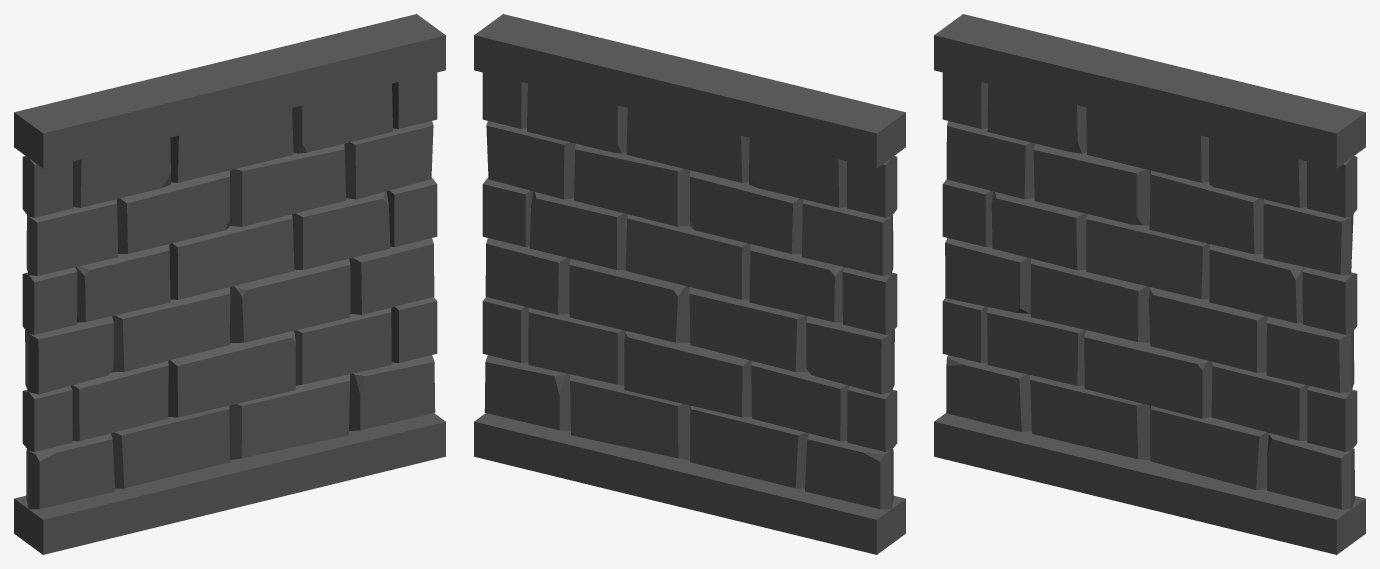
The model's file is Wall_4x4_4.fbx.
The picture shows the model from 3 angles, left to right: view 1: azimuth 30°, elevation 25°; view 2: azimuth 150°, elevation 25°; view 3: azimuth 330°, elevation 25°; orthographic projection.
Parts seen in each view (by area): view 1: Wall 1.004; view 2: Wall 1.004; view 3: Wall 1.004.
Part boxes in pixels (x1,y1,x2,y2): Wall 1.004: (14, 14, 445, 554); Wall 1.004: (474, 14, 905, 554); Wall 1.004: (934, 14, 1365, 554).
Size of the model in its own units: 400 by 400 by 50.
